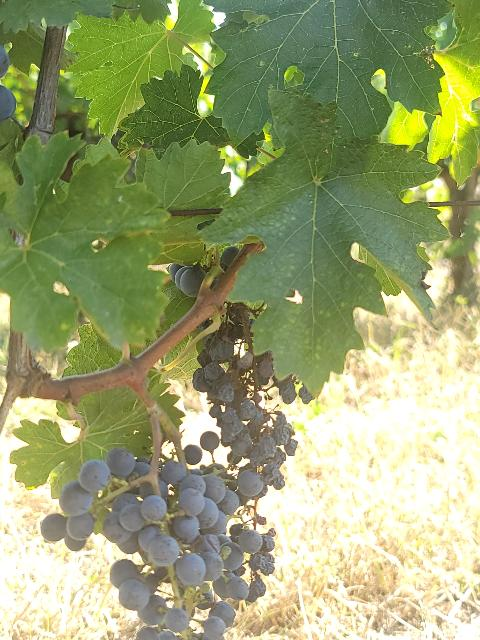grapes: (41, 448, 274, 640), (201, 304, 296, 504)
